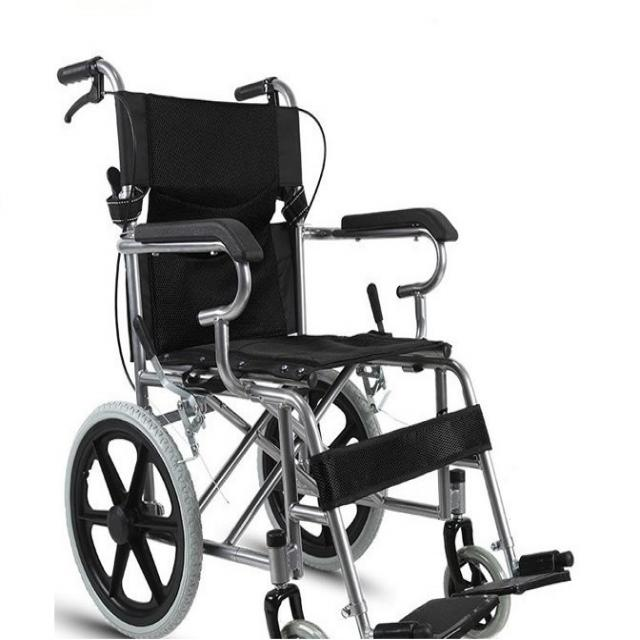wheelchair: (48, 32, 590, 640)
